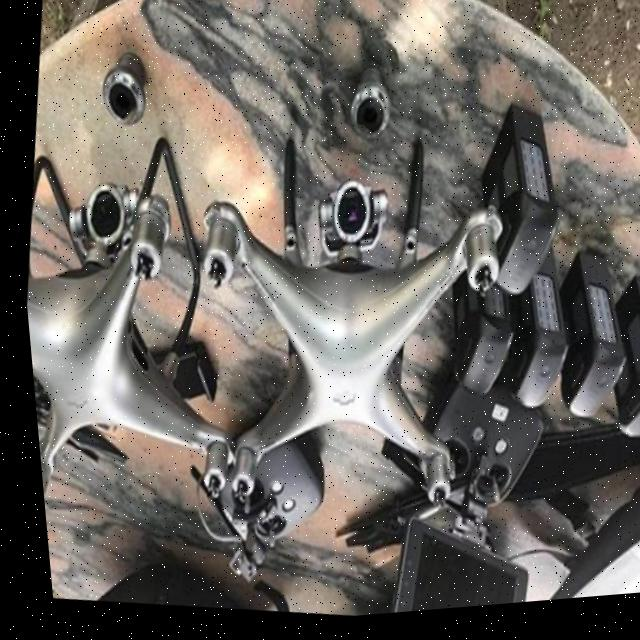drones: (142, 114, 534, 575), (12, 151, 270, 550)
